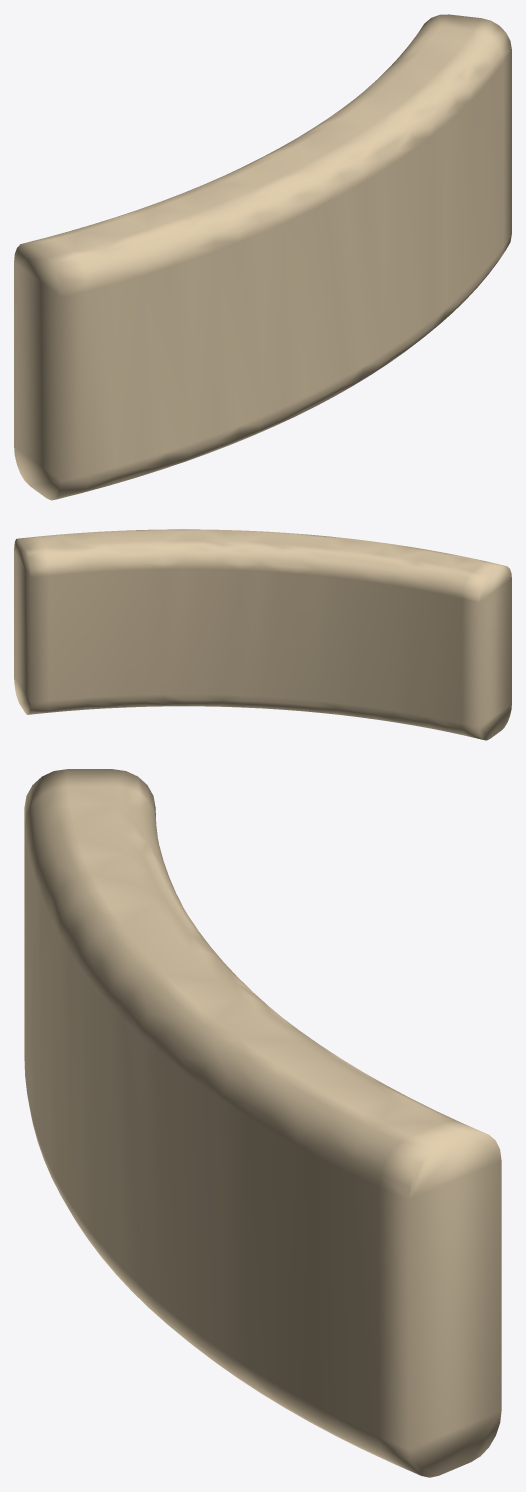
Rendered from ArcParapet_R2_A45.glb.
3 views of the same model, one above another, from view 1: azimuth 30°, elevation 25°; view 2: azimuth 150°, elevation 25°; view 3: azimuth 270°, elevation 25° (orthographic). The views are drawn at different scales.
Visible parts, largest first — view 1: PBK_Parapet.014; view 2: PBK_Parapet.014; view 3: PBK_Parapet.014.
Boxes of the visible parts, x1,y1,x2,y2 form: PBK_Parapet.014: [14, 14, 511, 500]; PBK_Parapet.014: [14, 529, 511, 740]; PBK_Parapet.014: [24, 769, 501, 1477].
Bounding box in the file's own units: 1.41 × 0.55 × 0.7272.
